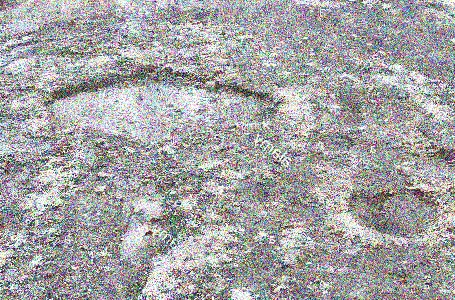pothole: (43, 63, 286, 144), (349, 185, 444, 238), (114, 188, 182, 257)
